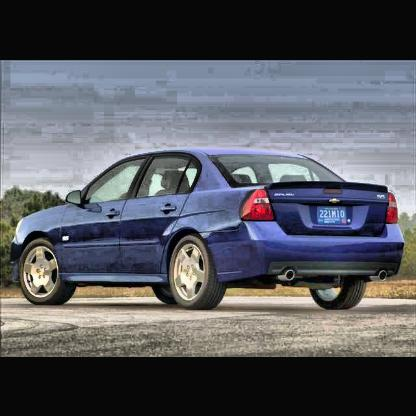Chevrolet Malibu Sedan 2007: (8, 140, 416, 328)
